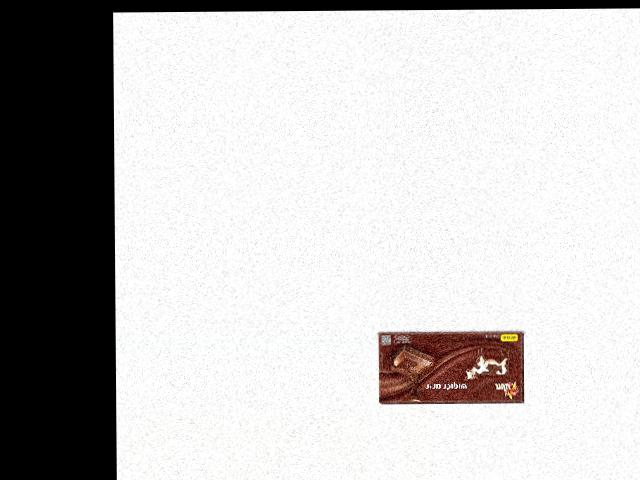chocolate: (380, 330, 527, 405)
